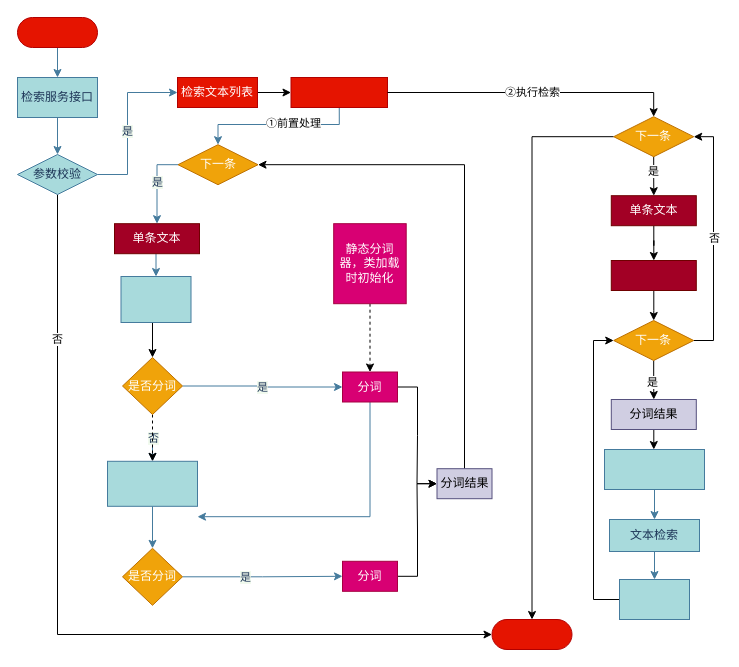
This 739x667 diagram has some shape labels left out. Each missing label, with the box of its shape:
emoji表情预处理: (604, 448, 704, 490)
中英文预处理: (106, 460, 198, 506)
合并结果: (618, 578, 690, 620)
开始: (16, 16, 98, 48)
文本、词表去重: (290, 76, 388, 108)
特殊符号预处理: (120, 276, 191, 322)
结束: (491, 618, 572, 650)
获取相同文本的词表code: (610, 260, 696, 290)
